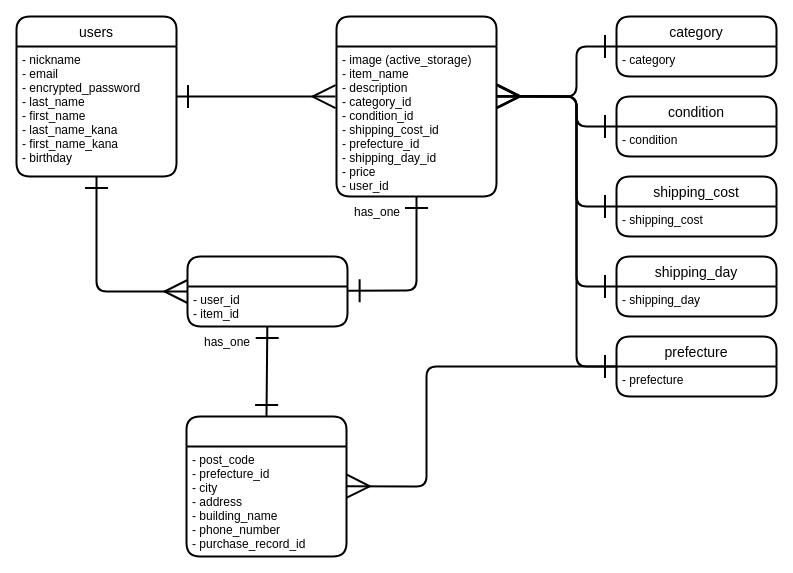
The diagram is 793 pixels wide and 573 high, and some of its shapes have lost their labels. The box of each missing label's shape, as (x1, y1, x2, y2) in pixels:
items: (335, 15, 497, 197)
purchase_records: (186, 255, 348, 327)
shipping_addresses: (185, 415, 347, 557)
